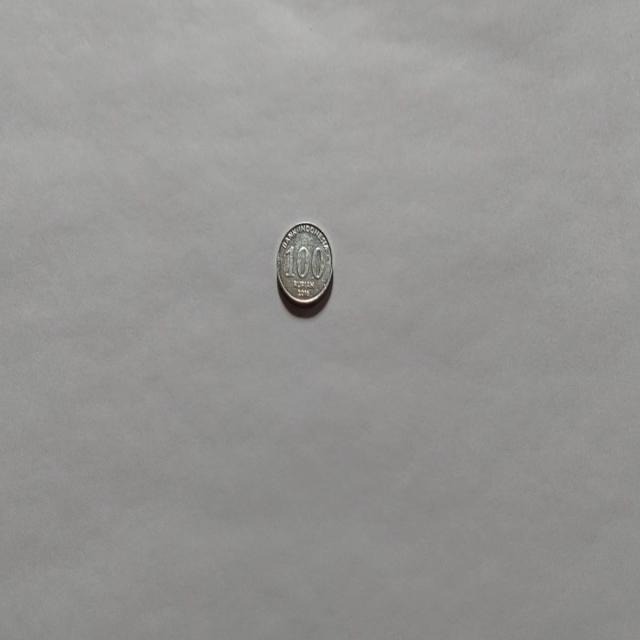seratus rupiah: (275, 220, 333, 308)
